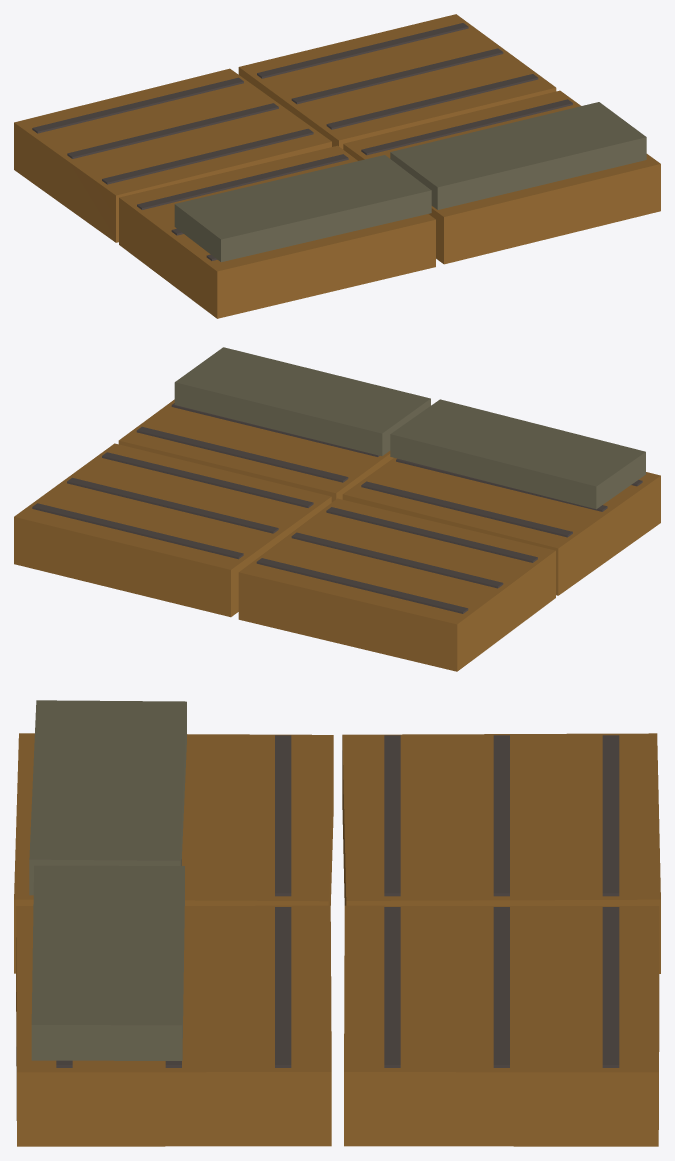
Rendered from SM_BanquetaCorta_v0_LOD0.fbx.
3 views of the same model, one above another, from view 1: azimuth 30°, elevation 25°; view 2: azimuth 150°, elevation 25°; view 3: azimuth 270°, elevation 25° (orthographic). The views are drawn at different scales.
Parts seen in each view (by area): view 1: SM_banqueta_tiro_v10_LOD0; view 2: SM_banqueta_tiro_v10_LOD0; view 3: SM_banqueta_tiro_v10_LOD0.
Part boxes in pixels (left/top/right/bottom): SM_banqueta_tiro_v10_LOD0: left=14, top=14, right=660, bottom=318; SM_banqueta_tiro_v10_LOD0: left=14, top=347, right=660, bottom=671; SM_banqueta_tiro_v10_LOD0: left=14, top=700, right=660, bottom=1146.
Bounding box in the file's own units: 2.45 × 0.385 × 1.97.
